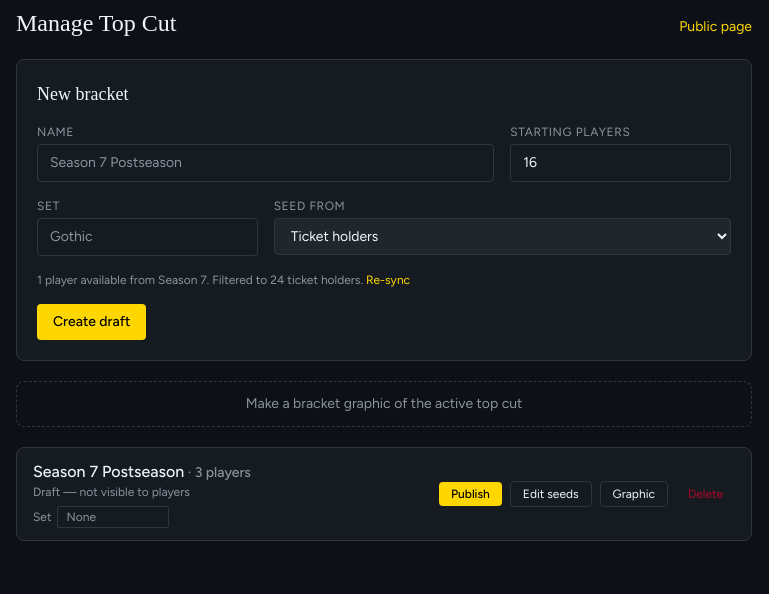
BracketsAdmin › creates a draft with a chosen starting count
In the field labelled "Name": (266, 163) x1=37 y1=144 x2=494 y2=182, type "New Cup"
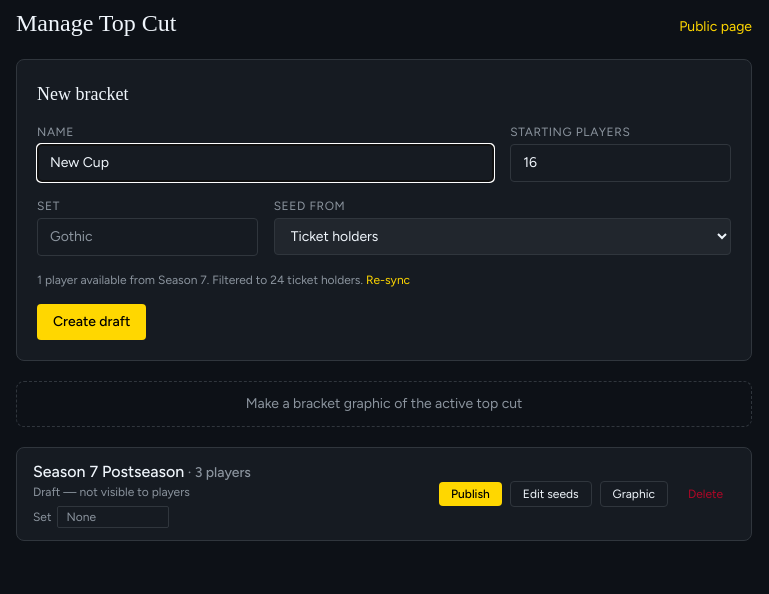
Replace the text in the number field labelled "Starting players" with "24": (621, 163) x1=510 y1=144 x2=731 y2=182
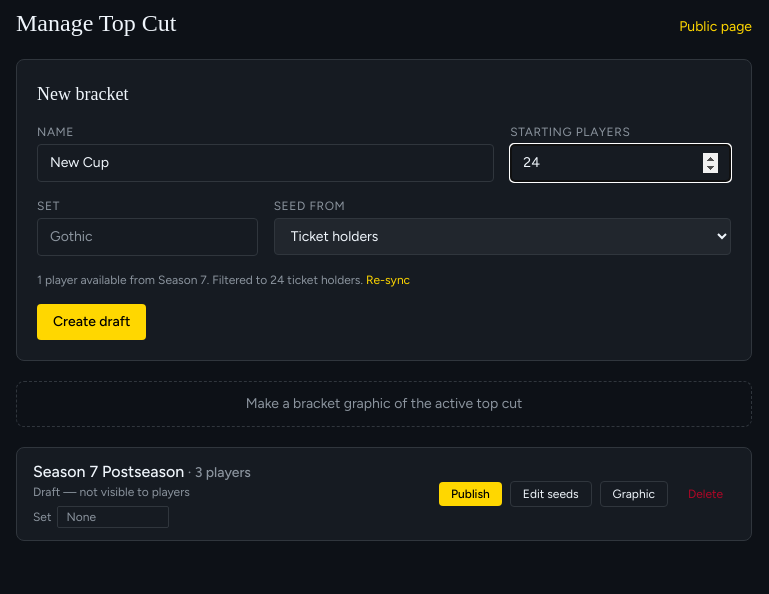
Click the button "Create draft": (92, 322) x1=37 y1=304 x2=146 y2=340
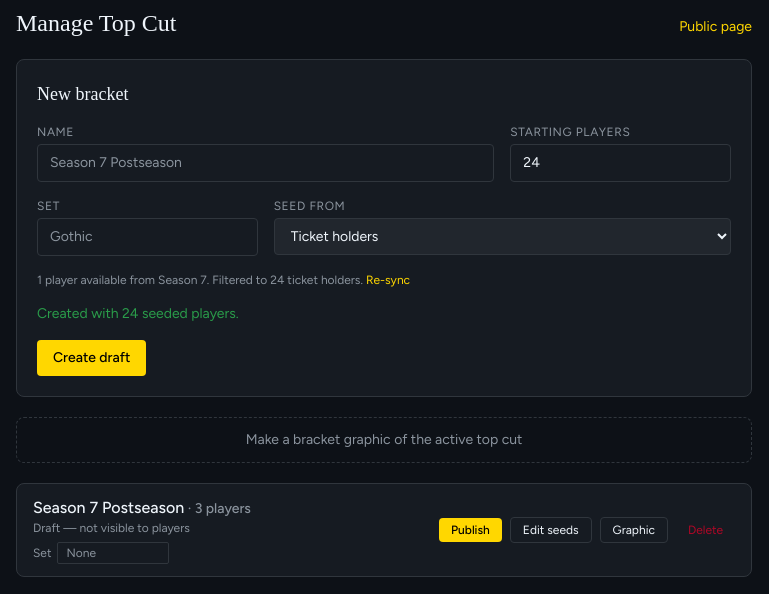
Expected: the text "Created with 24 seeded players." is shown, x1=37 y1=305 x2=239 y2=322
